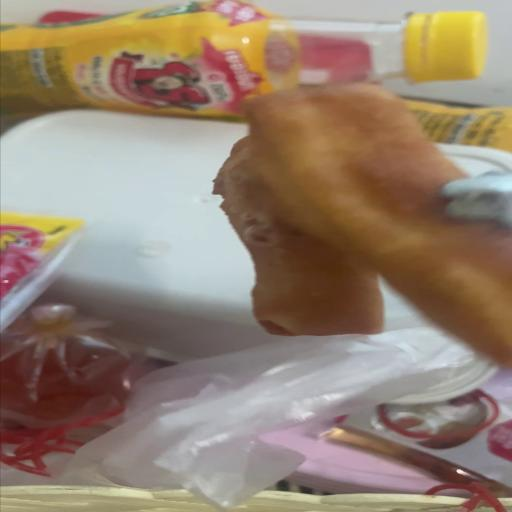street_burnt_defect: (213, 82, 512, 366)
